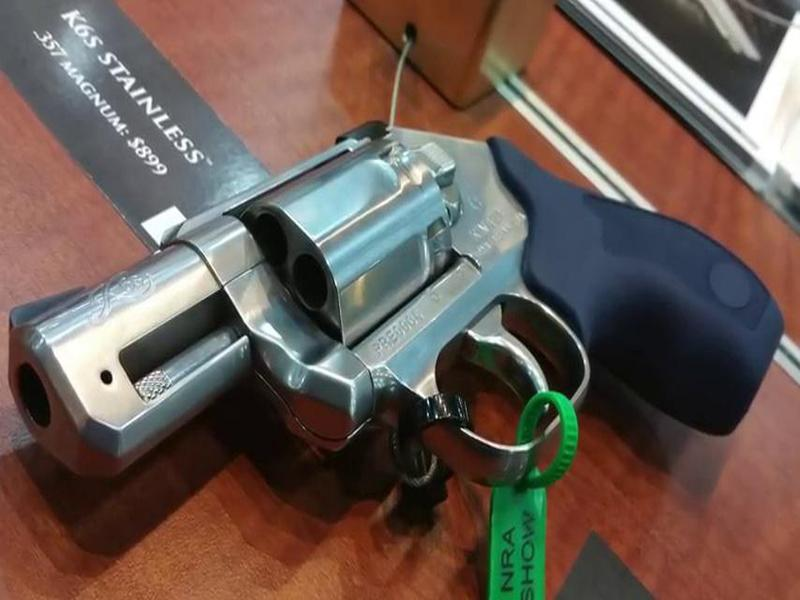Revolver: (17, 131, 782, 534)
